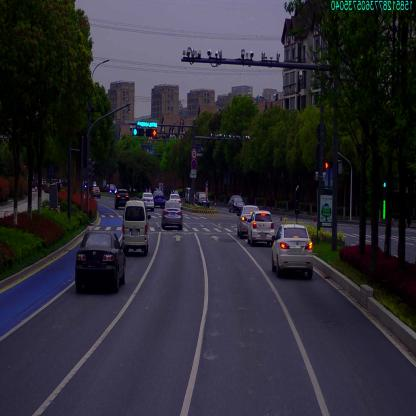traffic-light: (137, 119, 158, 128), (132, 129, 144, 136), (148, 130, 157, 139)
